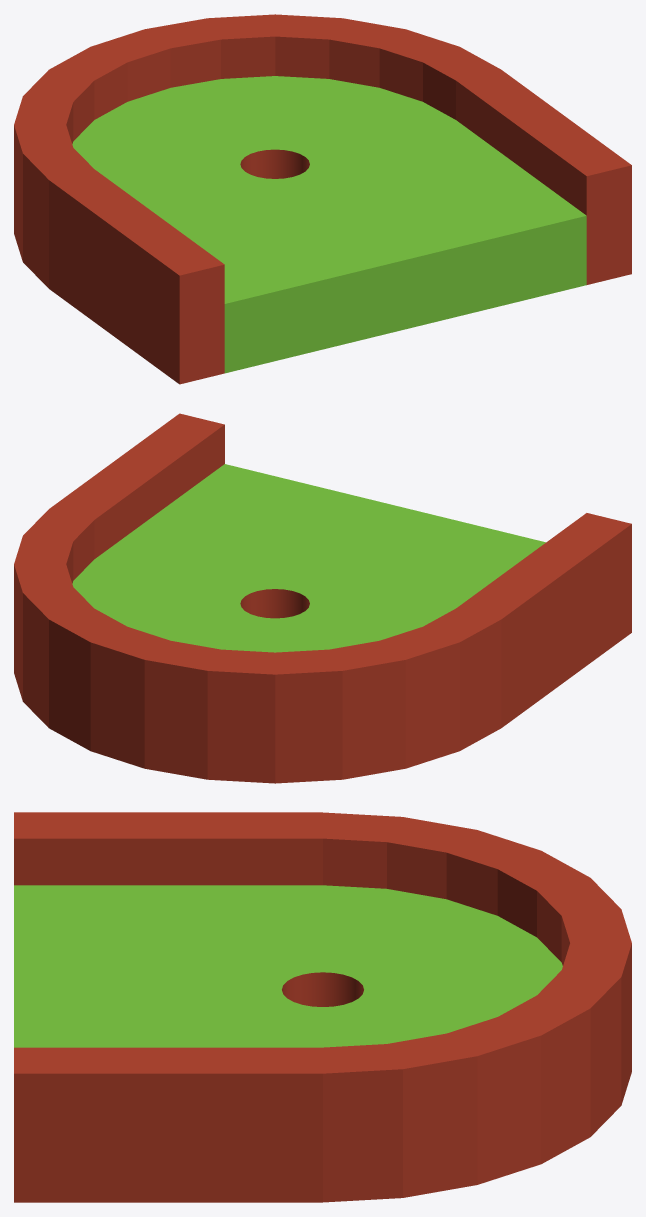
File: Hole_Round.FBX
3 views of the same model, one above another, from view 1: azimuth 30°, elevation 25°; view 2: azimuth 150°, elevation 25°; view 3: azimuth 270°, elevation 25° (orthographic). The views are drawn at different scales.
Visible parts, largest first — view 1: Hole_round_01, Walls; view 2: Walls, Hole_round_01; view 3: Walls, Hole_round_01.
Boxes of the visible parts, x1=… form: Hole_round_01: x1=72, y1=76, x2=586, y2=373; Walls: x1=14, y1=14, x2=631, y2=384; Walls: x1=14, y1=413, x2=631, y2=783; Hole_round_01: x1=72, y1=464, x2=545, y2=652; Walls: x1=14, y1=812, x2=631, y2=1202; Hole_round_01: x1=14, y1=885, x2=562, y2=1047.
Bounding box in the file's own units: 0.9999 × 0.9999 × 0.23.
